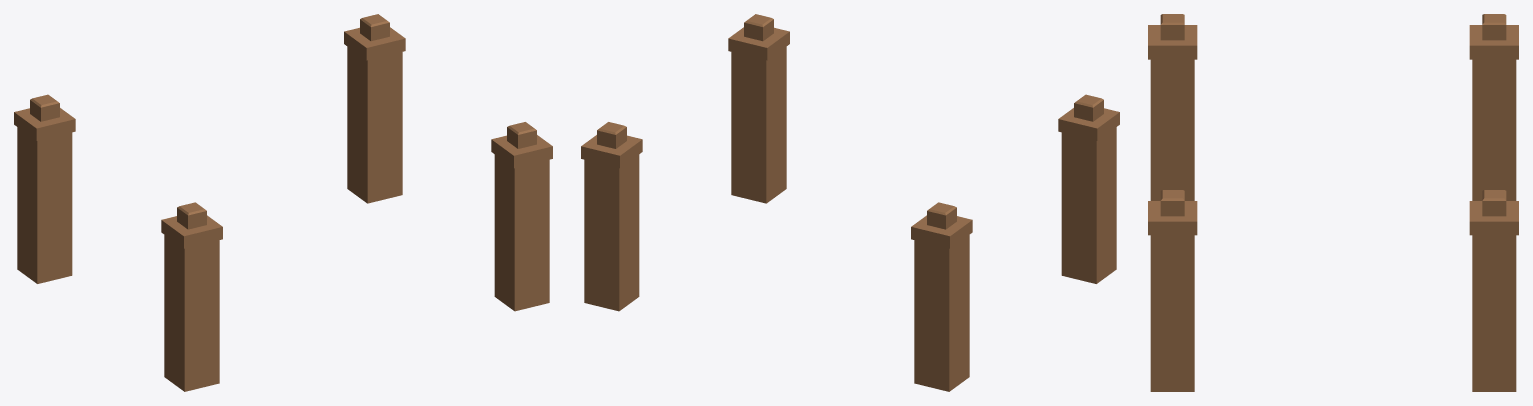
The model's file is diagnostic_scene.glb.
3 renders of one model, left to right at view 1: azimuth 30°, elevation 25°; view 2: azimuth 150°, elevation 25°; view 3: azimuth 270°, elevation 25°, orthographic. The views are drawn at different scales.
Visible parts, largest first — view 1: leg_front_left/leg_front_left_mesh, leg_front_right/leg_front_right_mesh, leg_rear_right/leg_rear_right_mesh, leg_rear_left/leg_rear_left_mesh; view 2: leg_rear_left/leg_rear_left_mesh, leg_front_right/leg_front_right_mesh, leg_rear_right/leg_rear_right_mesh, leg_front_left/leg_front_left_mesh; view 3: leg_front_right/leg_front_right_mesh, leg_rear_right/leg_rear_right_mesh, leg_front_left/leg_front_left_mesh, leg_rear_left/leg_rear_left_mesh.
Part boxes in pixels (bbox=[...]): leg_front_left/leg_front_left_mesh: bbox=[161, 202, 222, 391]; leg_front_right/leg_front_right_mesh: bbox=[491, 122, 552, 311]; leg_rear_right/leg_rear_right_mesh: bbox=[344, 14, 405, 203]; leg_rear_left/leg_rear_left_mesh: bbox=[14, 94, 75, 283]; leg_rear_left/leg_rear_left_mesh: bbox=[911, 202, 972, 391]; leg_front_right/leg_front_right_mesh: bbox=[728, 14, 789, 203]; leg_rear_right/leg_rear_right_mesh: bbox=[581, 122, 642, 311]; leg_front_left/leg_front_left_mesh: bbox=[1058, 94, 1119, 283]; leg_front_right/leg_front_right_mesh: bbox=[1148, 190, 1197, 391]; leg_rear_right/leg_rear_right_mesh: bbox=[1469, 190, 1518, 391]; leg_front_left/leg_front_left_mesh: bbox=[1148, 14, 1197, 200]; leg_rear_left/leg_rear_left_mesh: bbox=[1469, 14, 1518, 200].
Bounding box in the file's own units: 738 × 330 × 588.
